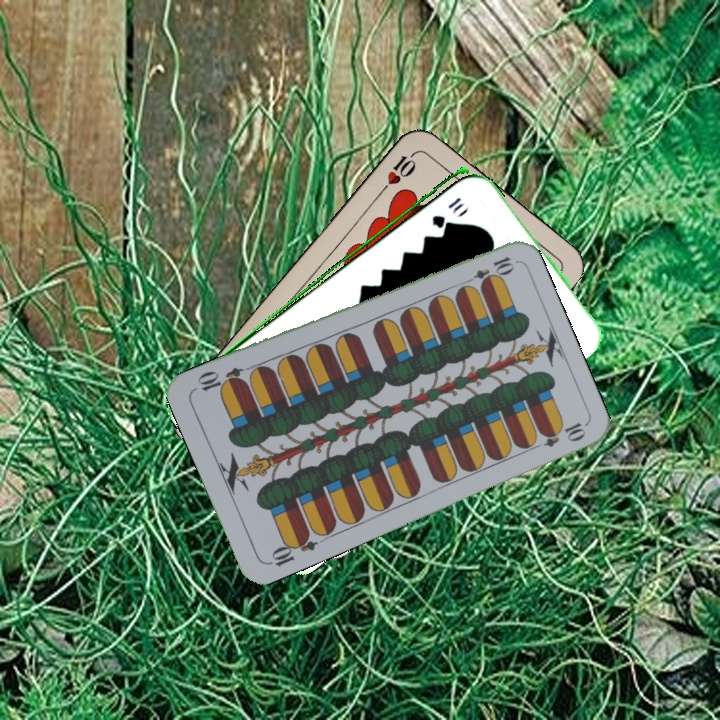E10: (263, 528, 320, 569), (459, 252, 517, 289)
G10: (427, 193, 467, 229)
H10: (376, 147, 420, 195)
